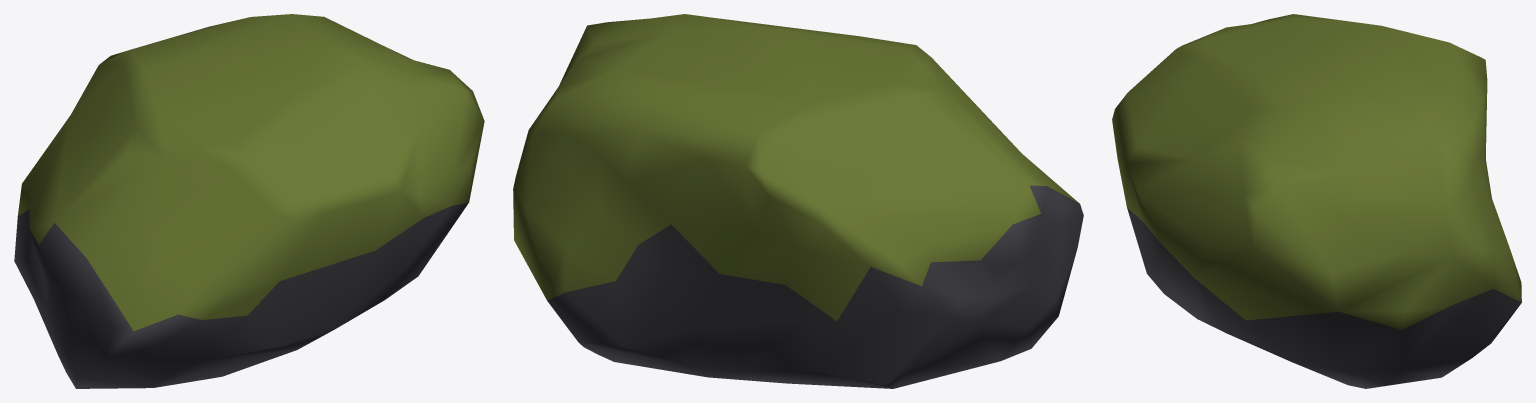
Rendered from Rock_2_mossy_2.glb.
3 views of the same model, side by side, from view 1: azimuth 30°, elevation 25°; view 2: azimuth 150°, elevation 25°; view 3: azimuth 270°, elevation 25° (orthographic). The views are drawn at different scales.
Parts seen in each view (by area): view 1: Rock_2_mossy_2; view 2: Rock_2_mossy_2; view 3: Rock_2_mossy_2.
Boxes of the visible parts, x1=… form: Rock_2_mossy_2: x1=14, y1=14, x2=484, y2=388; Rock_2_mossy_2: x1=513, y1=14, x2=1083, y2=388; Rock_2_mossy_2: x1=1112, y1=14, x2=1521, y2=388.
Bounding box in the file's own units: 0.4176 × 0.2447 × 0.3233.
Materials: 1 (1 with a texture image).
